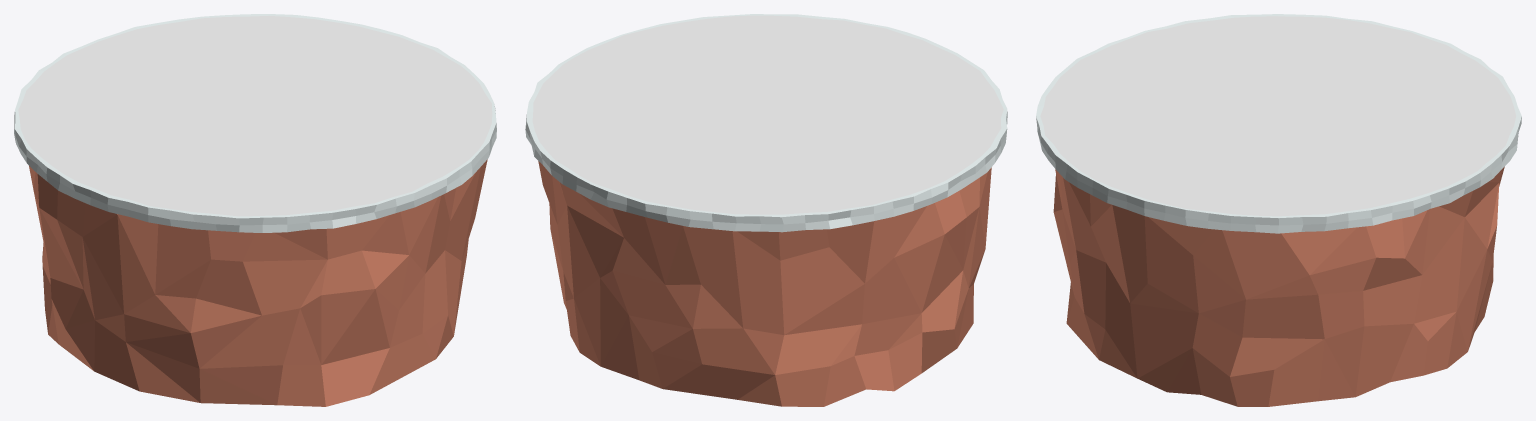
Rendered from SuperSexyCarosell.fbx.
The picture shows the model from 3 angles, left to right: view 1: azimuth 30°, elevation 25°; view 2: azimuth 150°, elevation 25°; view 3: azimuth 270°, elevation 25°; orthographic projection.
Parts seen in each view (by area): view 1: Cylinder, Circle; view 2: Cylinder, Circle; view 3: Cylinder, Circle.
Part boxes in pixels (x1=…): Cylinder: x1=14, y1=14, x2=496, y2=232; Circle: x1=29, y1=159, x2=487, y2=406; Cylinder: x1=525, y1=14, x2=1007, y2=232; Circle: x1=538, y1=161, x2=991, y2=406; Cylinder: x1=1036, y1=14, x2=1521, y2=233; Circle: x1=1053, y1=166, x2=1504, y2=406.
Bounding box in the file's own units: 1176 × 555 × 1178.
